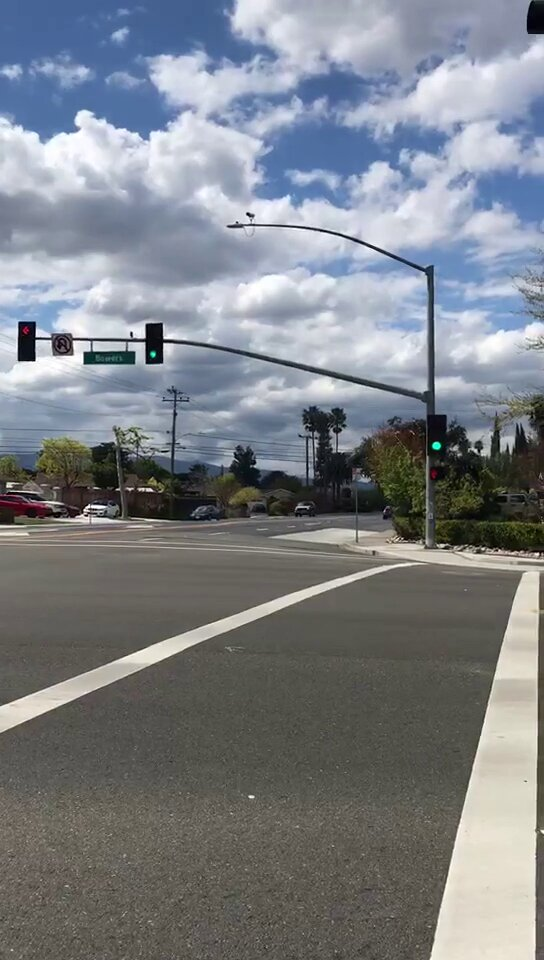green_light: (427, 414, 446, 458), (148, 323, 163, 362)
